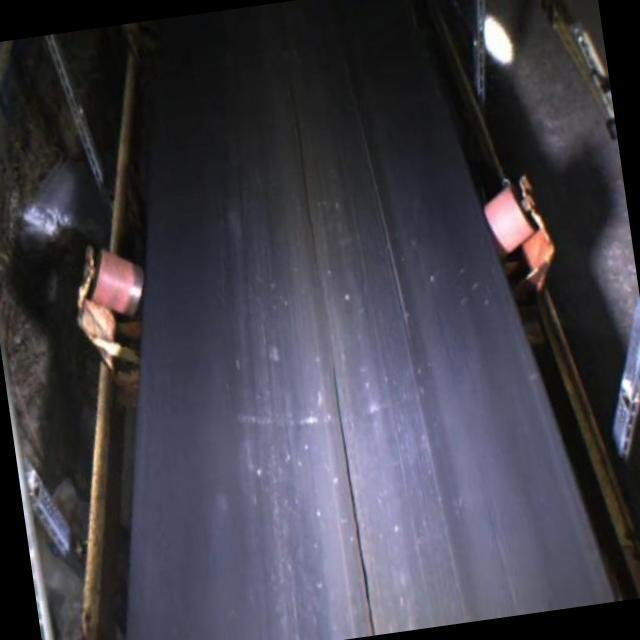Tear: (328, 362, 382, 640), (277, 62, 329, 270)
